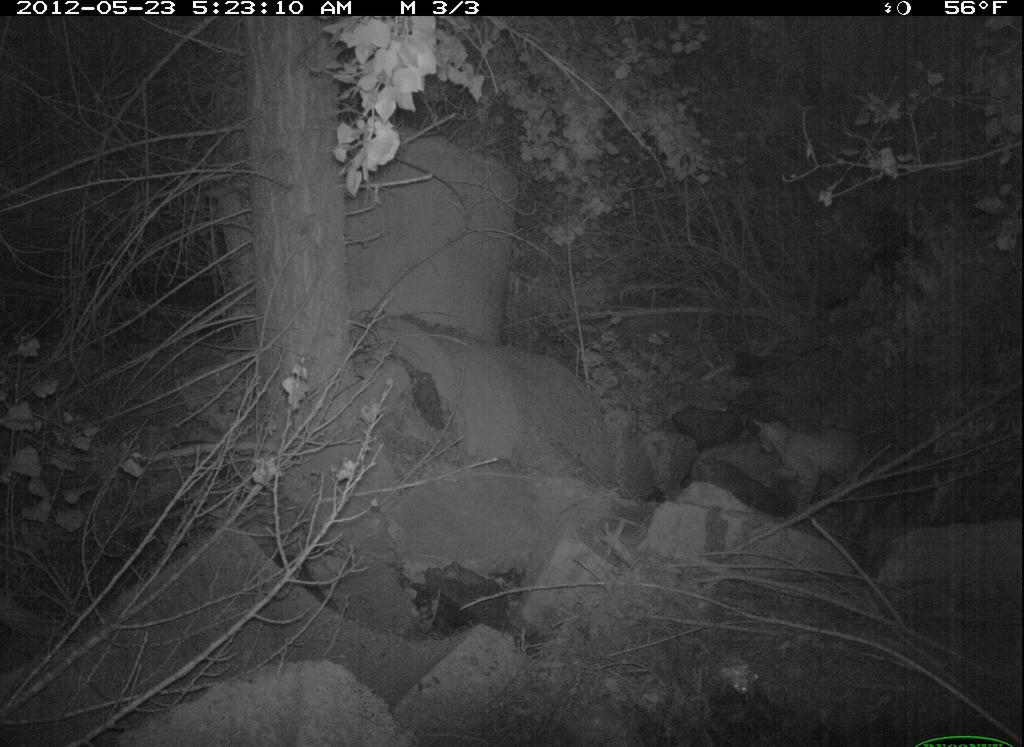bobcat: (753, 413, 885, 528)
